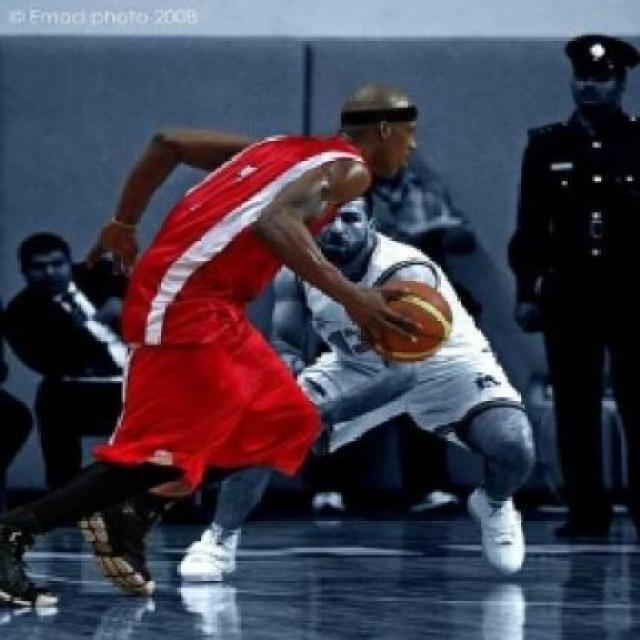basketball: (352, 276, 452, 364)
